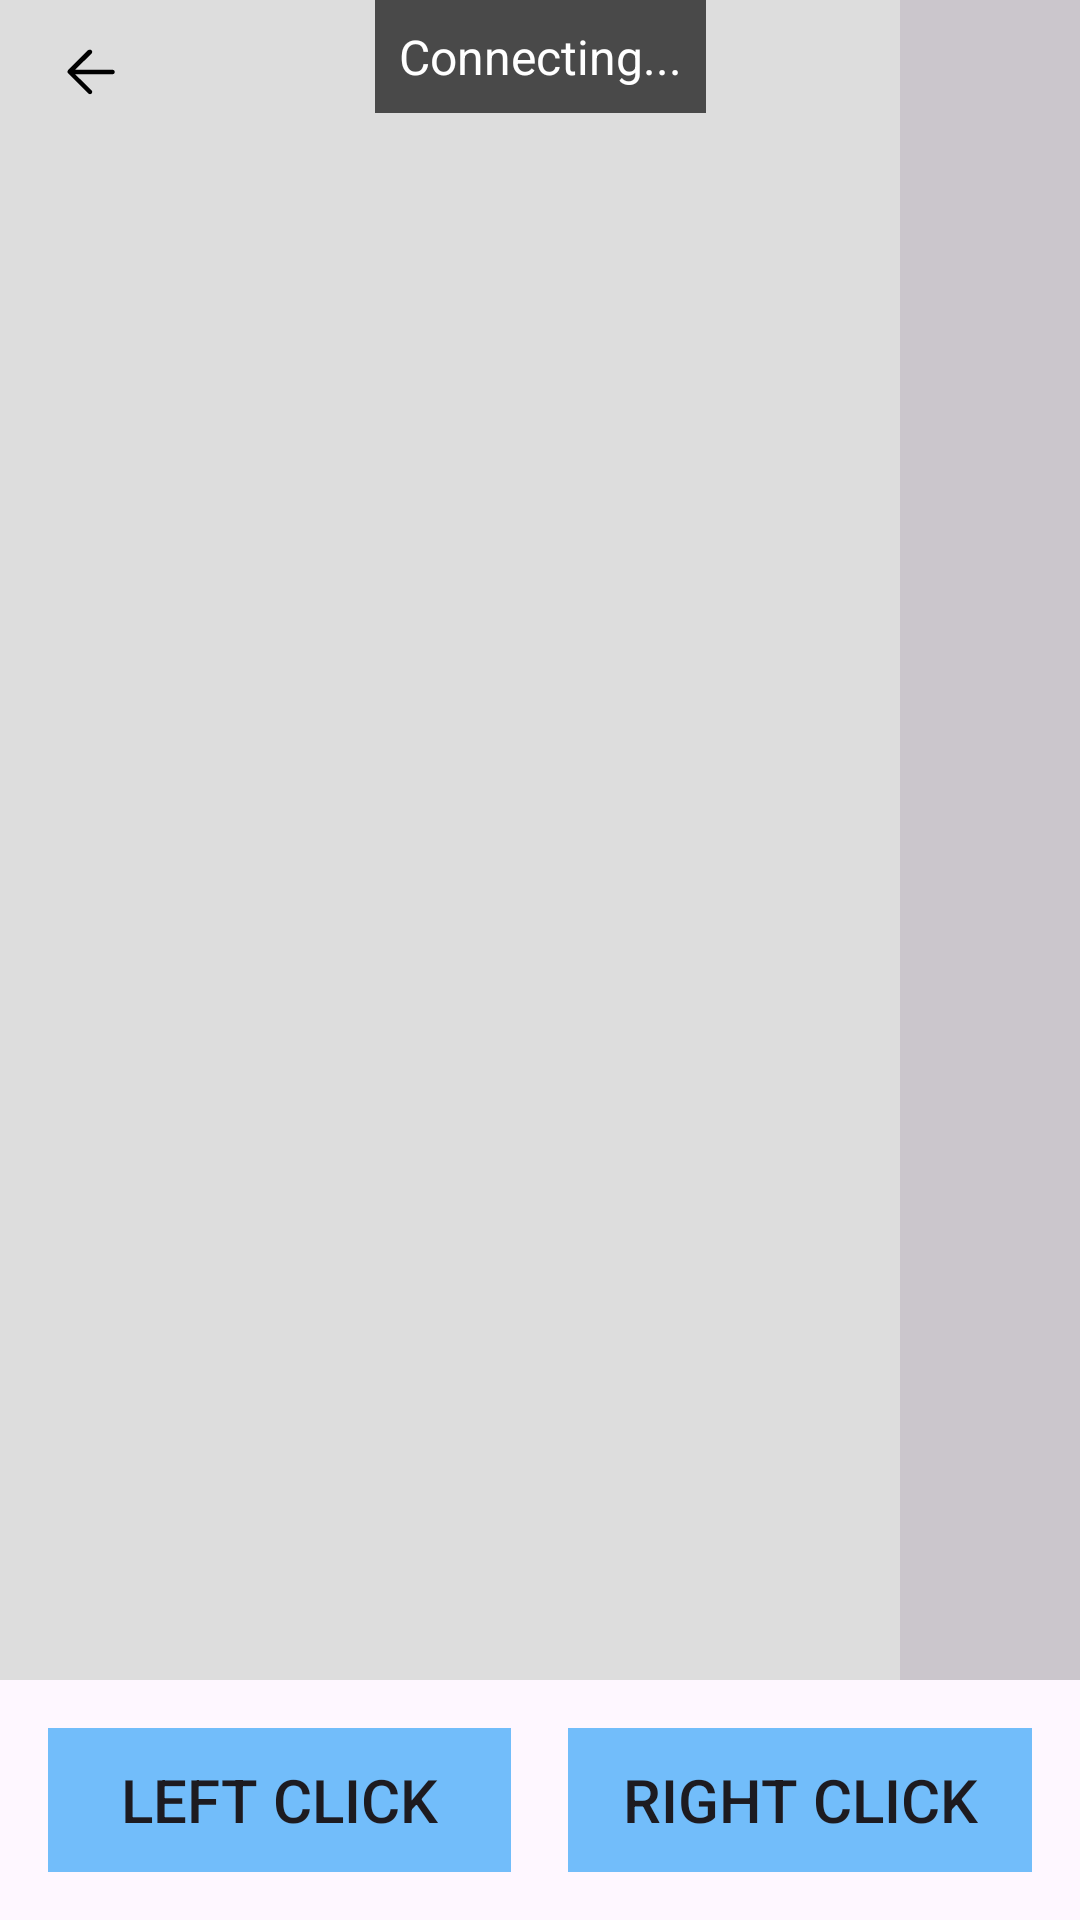

Screen size 1080px×1920px. Icon name, then its box in pixels as (x1, y1, x2, y2):
Back: (67, 49, 115, 94)
